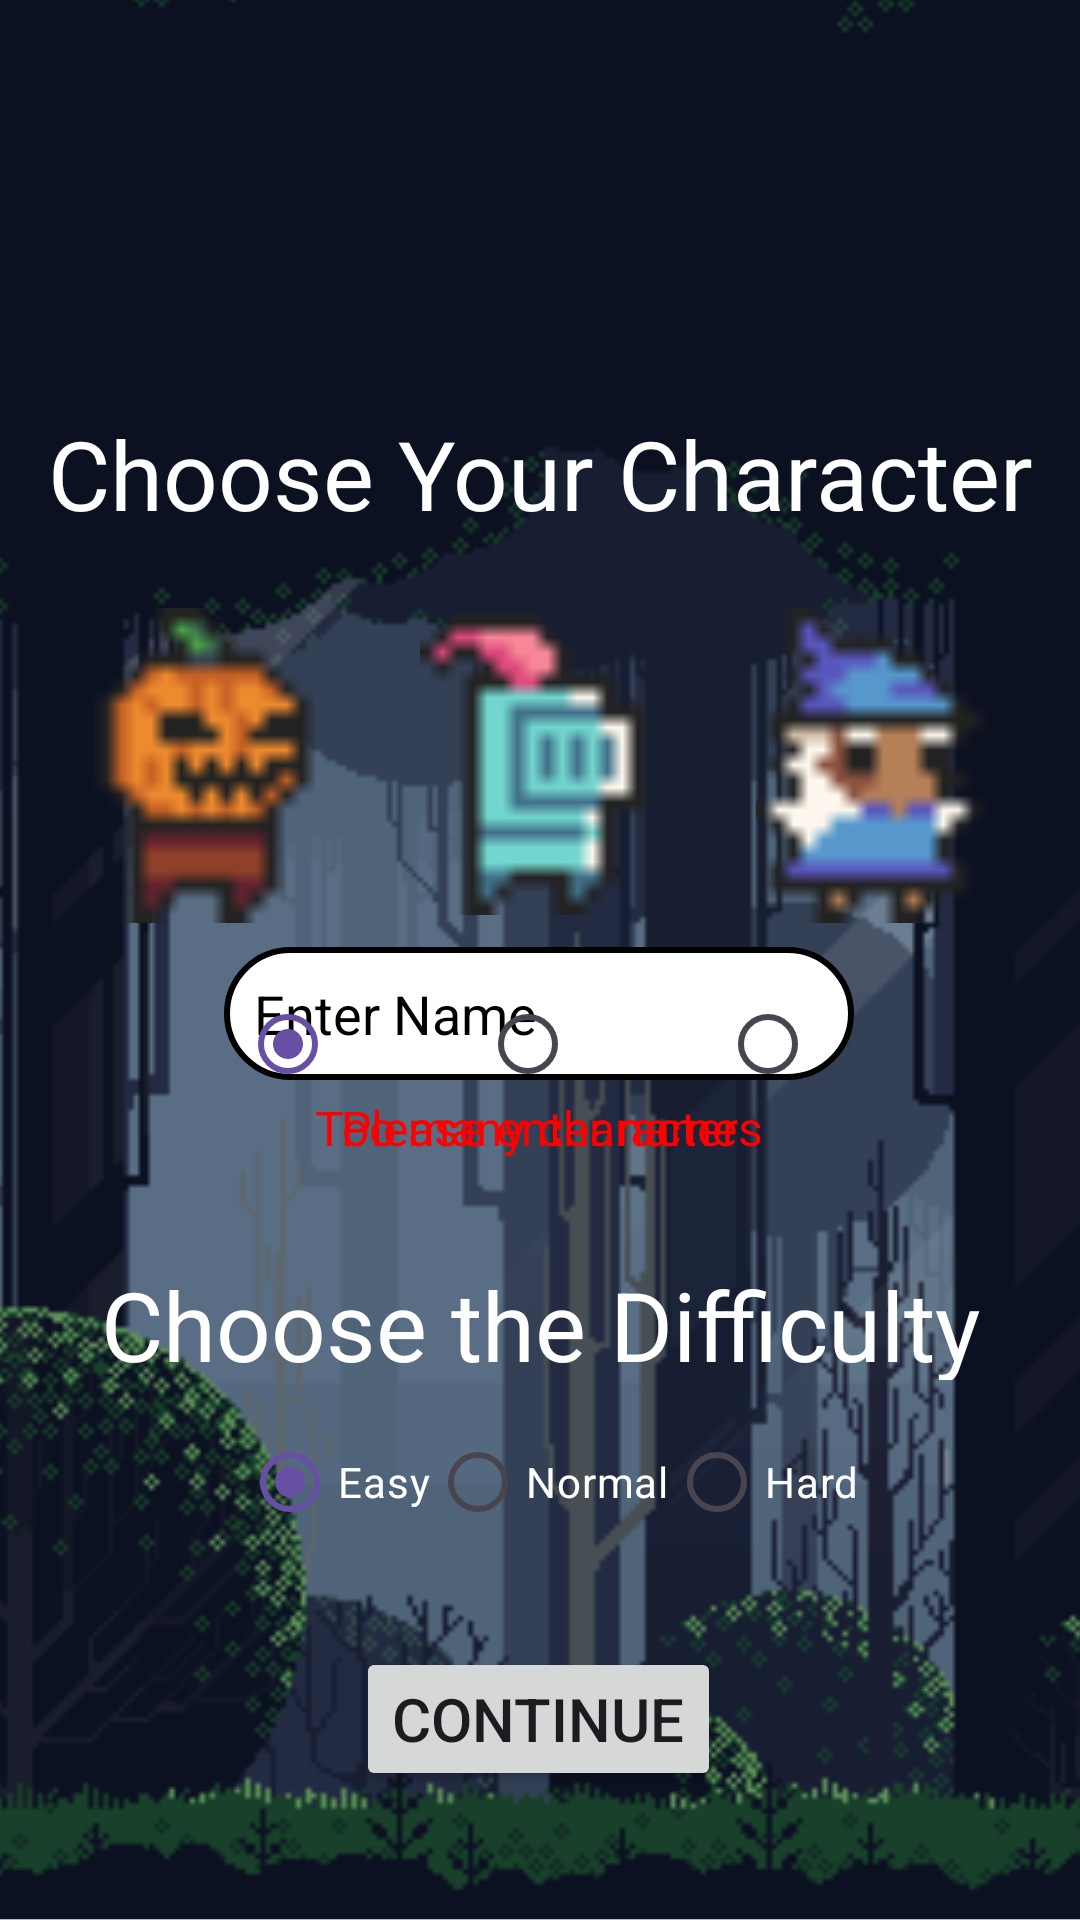

Point at icon controls on the screen. Image size 1080*1920, points as point (x, y).
knight idle anim: point (540, 765)
pumpkin dude idle anim: point (204, 765)
wizzard hit anim: point (876, 765)
